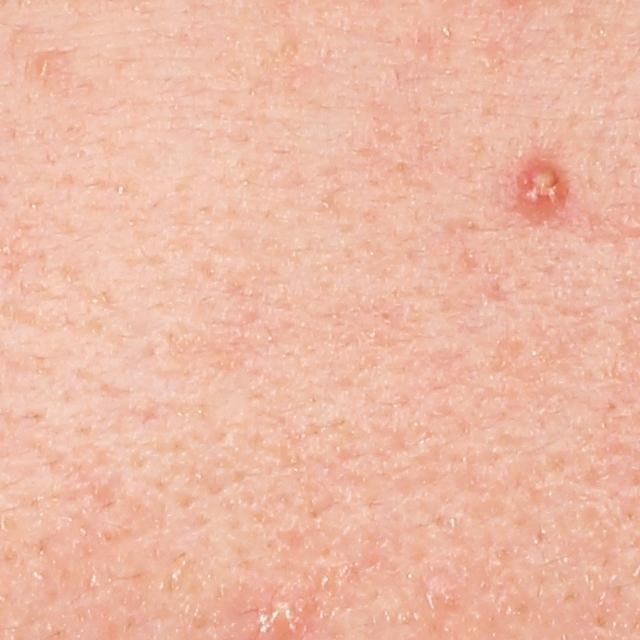comedo: (29, 53, 56, 80)
pustule: (519, 160, 564, 214), (262, 586, 304, 634)
